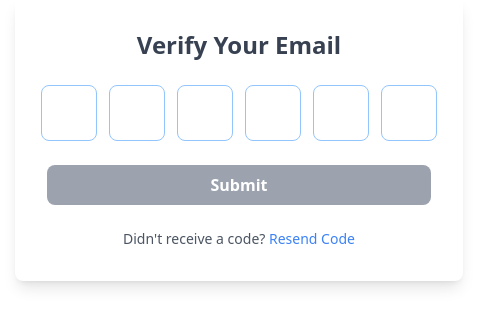
Scenario: EmailVerification Component › shows error message if resend fails
The width and height of the screenshot is (479, 327).
Click the button with test id "resend-code-button" at (312, 239), box [269,229,355,249]
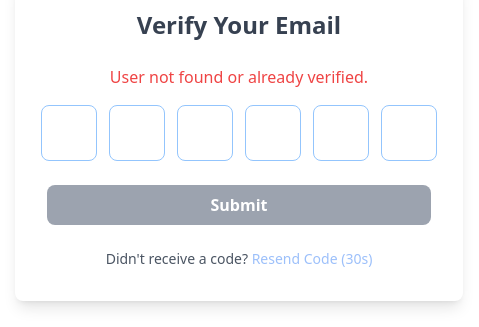
Now the text "User not found or already verified." is shown, box [110,66,368,88]
